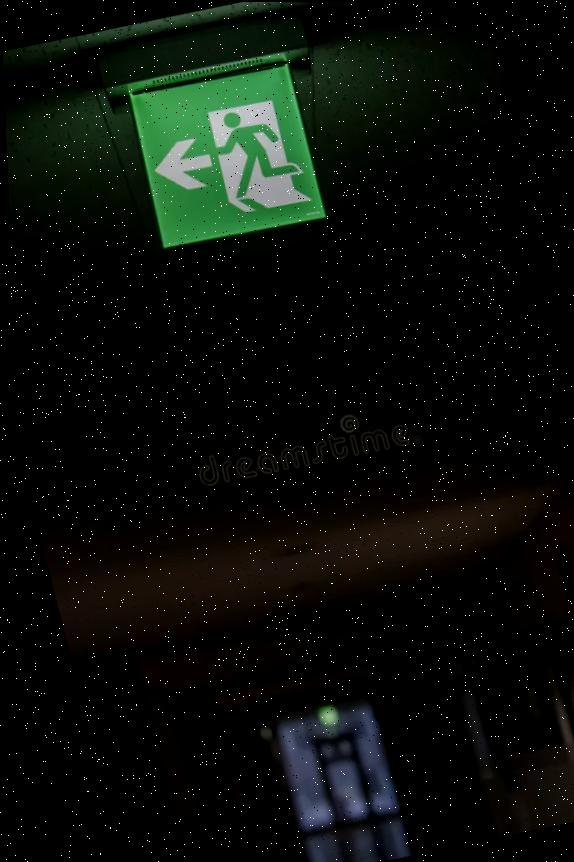emergency_exit: (125, 56, 328, 250)
